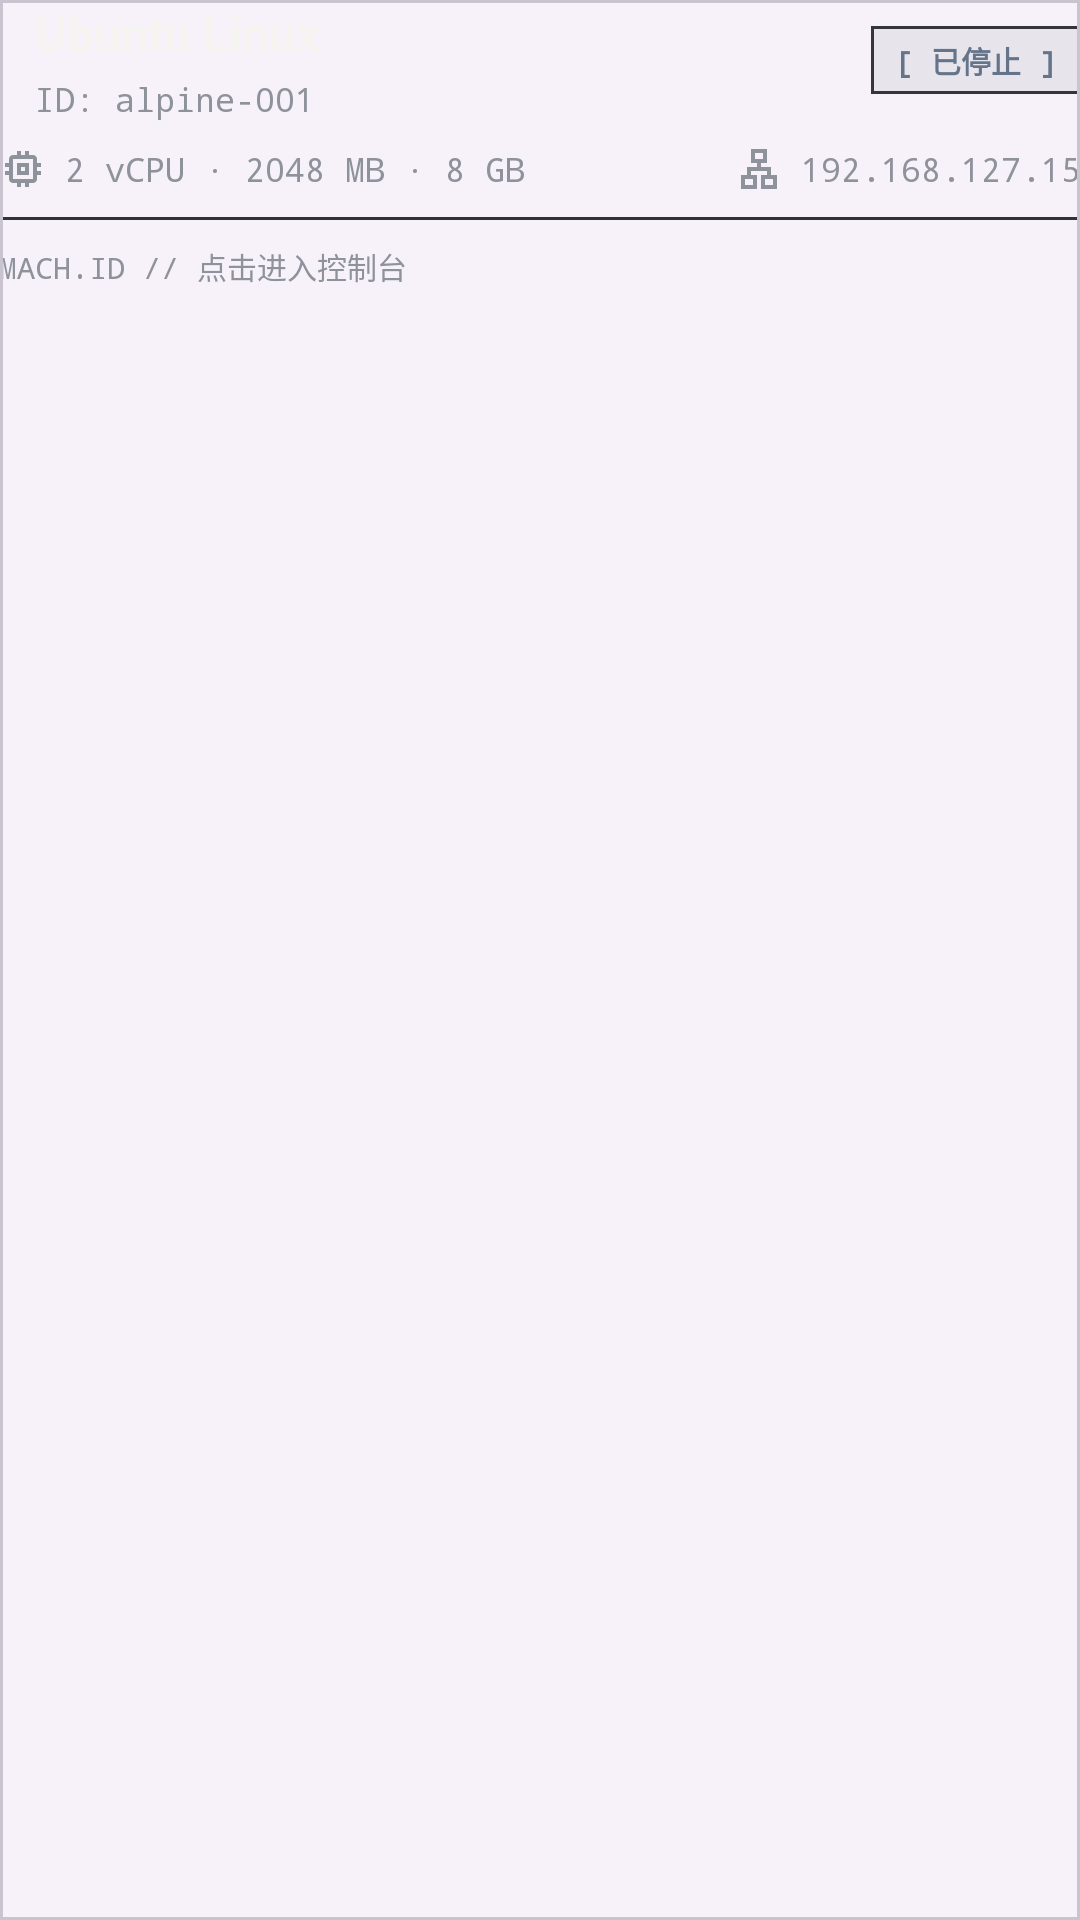

Screen size 1080*1920. Icon name, then its center in pixels as point (x, y):
sym lan: point (759, 169)
sym memory: point (23, 169)
